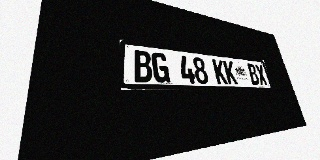4: (178, 55, 196, 83)
8: (192, 57, 209, 84)
B: (133, 50, 153, 82), (246, 63, 260, 85)
G: (151, 52, 170, 83)
K: (212, 59, 228, 84), (223, 60, 238, 84)
X: (254, 64, 268, 85)
